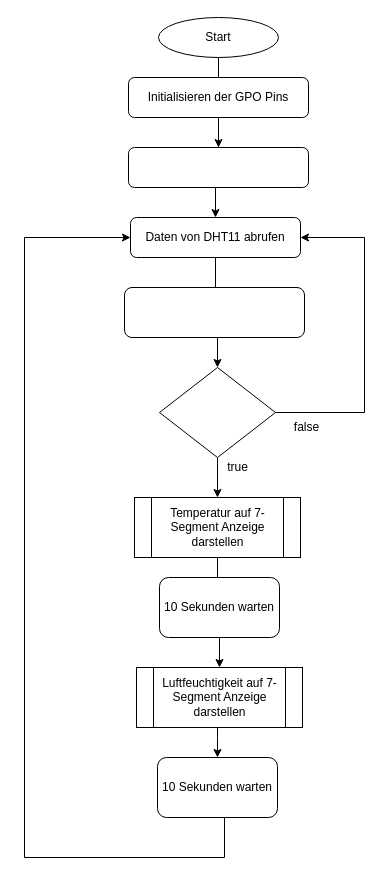
This 390x883 diagram has some shape labels left out. Here are the shapes that lost their labels. From the top down, the centre of each, then its label:
(x=218, y=167): 7-Segment Anzeige initialisieren
(x=214, y=312): Daten von BH1750FVI abrufen
(x=217, y=412): Messdaten vorhanden?
